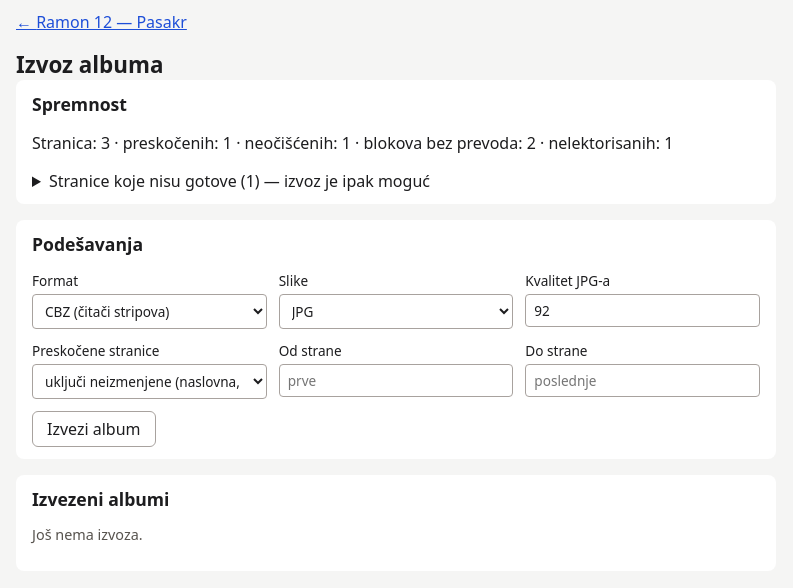
Test: ExportPage › crta samo nepreskočene stranice, šalje ih i pakuje album
The image size is (793, 588).
Select "PDF" in the dropdown named "Format albuma". click: (149, 311)
box: [32,294,267,329]
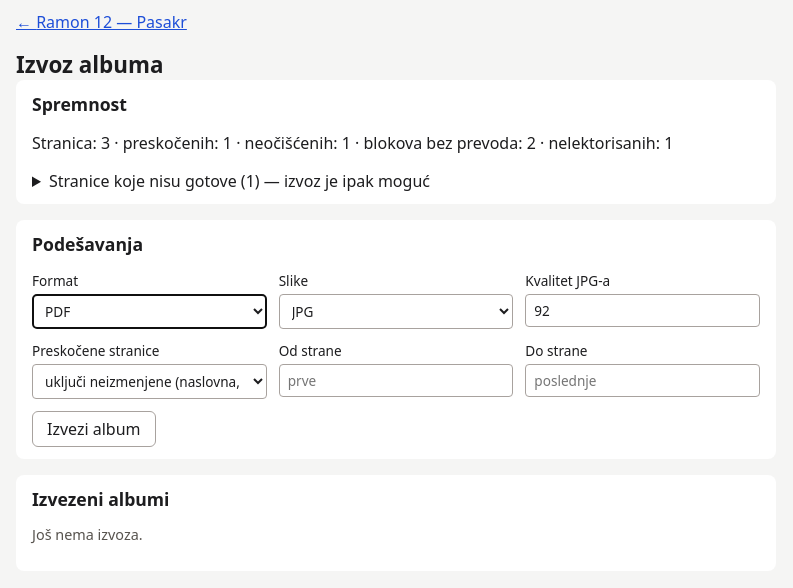
Click the button "Izvezi album". click: (94, 429)
box: [32,411,156,447]
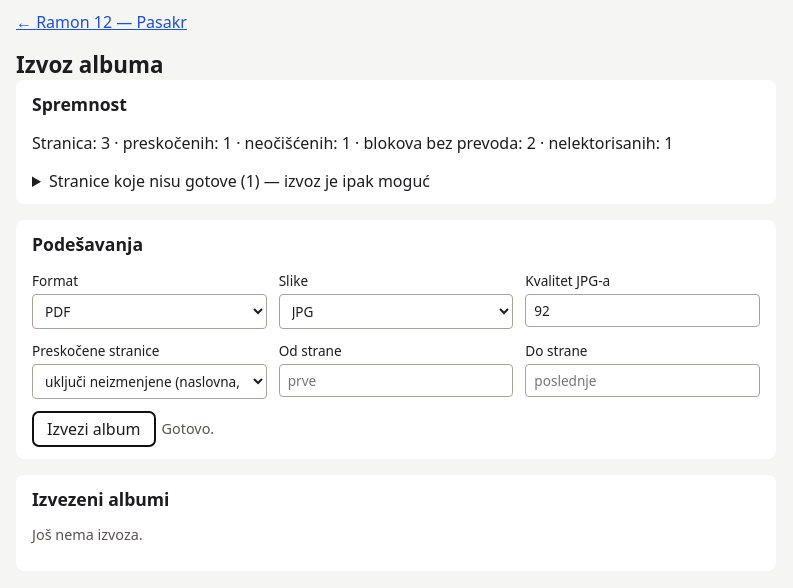
Check: the text "Gotovo." is shown, box [162,419,214,438]
